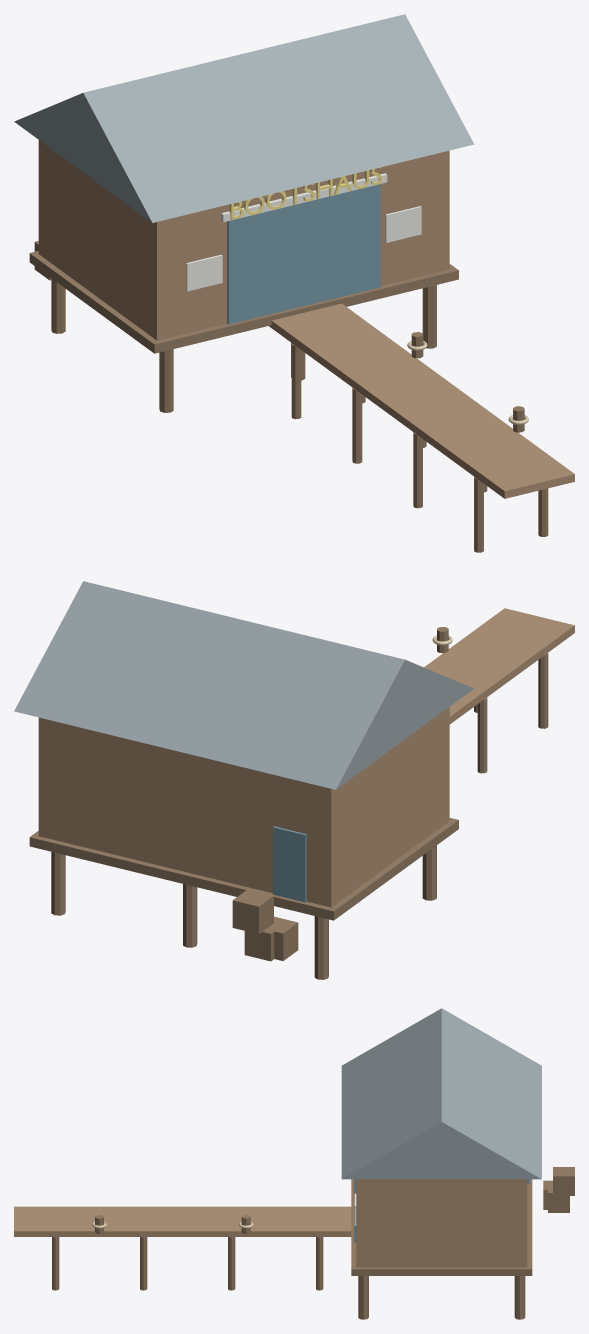
The model's file is boathouse.glb.
3 renders of one model, top to bottom at view 1: azimuth 30°, elevation 25°; view 2: azimuth 150°, elevation 25°; view 3: azimuth 270°, elevation 25°, orthographic. The views are drawn at different scales.
Visible parts, largest first — view 1: Dach, Haus, Cube.006, Cube.001, Cube, Text, Cube.002, Cube.005, Cube.004, Cylinder, Cylinder.004, Cylinder.006 (+4 smaller); view 2: Dach, Haus, Cube.006, Cube, Cube.003, Cube.009, Cube.007, Cylinder.005, Cylinder.001, Cylinder.003, Cube.008, Cylinder.010 (+2 smaller); view 3: Dach, Haus, Cube.006, Cube, Cube.009, Cylinder.005, Cylinder.004, Cube.008, Cylinder.007, Cylinder.009, Cylinder.011, Cylinder.013.
Part boxes in pixels (box(x1,y1,x2,y2)): Dach: box(14, 14, 474, 222); Haus: box(38, 140, 449, 340); Cube.006: box(269, 303, 574, 498); Cube.001: box(227, 184, 380, 324); Cube: box(29, 251, 458, 353); Text: box(229, 167, 382, 220); Cube.002: box(221, 173, 387, 222); Cube.005: box(385, 206, 421, 242); Cube.004: box(186, 254, 222, 291); Cylinder: box(159, 349, 173, 412); Cylinder.004: box(422, 285, 436, 348); Cylinder.006: box(291, 343, 301, 419); Dach: box(14, 581, 473, 789); Haus: box(38, 707, 449, 907); Cube.006: box(424, 608, 574, 724); Cube: box(29, 818, 458, 920); Cube.003: box(273, 826, 306, 902); Cube.009: box(232, 889, 273, 934); Cube.007: box(266, 916, 298, 960); Cylinder.005: box(51, 852, 65, 915); Cylinder.001: box(314, 916, 328, 979); Cylinder.003: box(183, 884, 197, 947); Cube.008: box(244, 920, 284, 961); Cylinder.010: box(477, 697, 487, 773); Dach: box(341, 1008, 541, 1179); Haus: box(356, 1179, 527, 1267); Cube.006: box(14, 1206, 351, 1236); Cube: box(351, 1179, 532, 1275); Cube.009: box(553, 1167, 574, 1195); Cylinder.005: box(514, 1276, 525, 1319); Cylinder.004: box(358, 1276, 368, 1319); Cube.008: box(548, 1183, 569, 1212); Cylinder.007: box(316, 1237, 323, 1290); Cylinder.009: box(228, 1237, 235, 1290); Cylinder.011: box(140, 1237, 147, 1290); Cylinder.013: box(52, 1237, 59, 1290).
Bounding box in the file's own units: 11 × 9.6 × 22.95.
